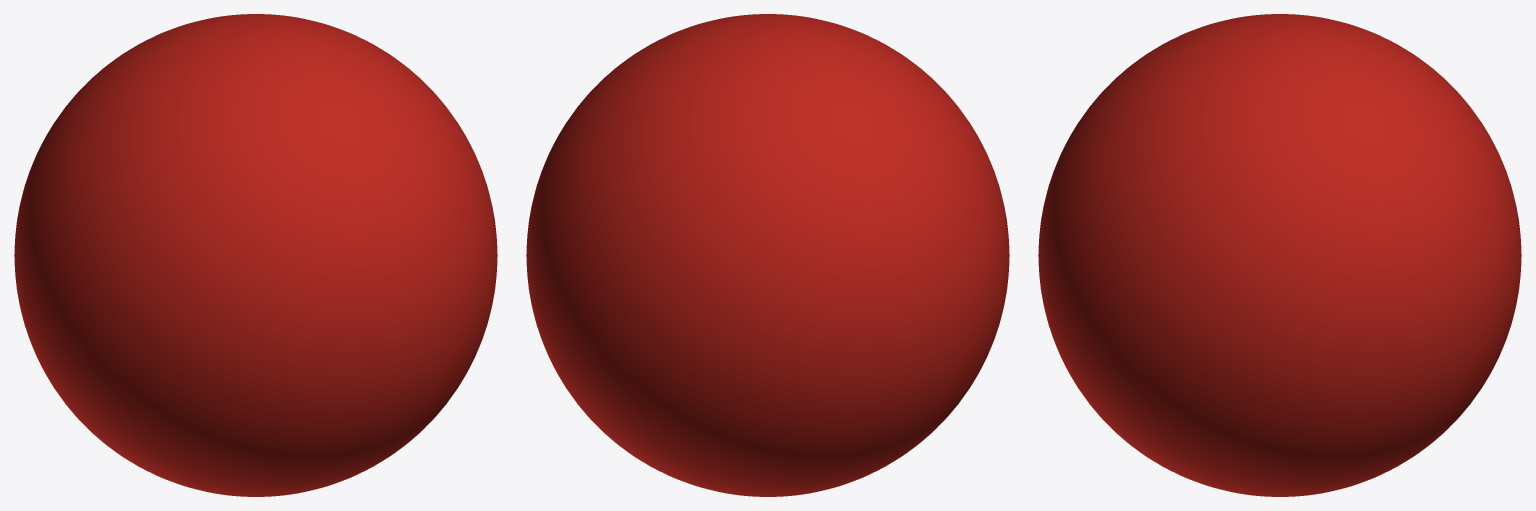
The model's file is red4.glb.
3 renders of one model, left to right at view 1: azimuth 30°, elevation 25°; view 2: azimuth 150°, elevation 25°; view 3: azimuth 270°, elevation 25°, orthographic.
Visible parts, largest first — view 1: Sphere; view 2: Sphere; view 3: Sphere.
Part boxes in pixels (x1=…): Sphere: x1=14, y1=14, x2=497, y2=496; Sphere: x1=526, y1=14, x2=1009, y2=496; Sphere: x1=1038, y1=14, x2=1521, y2=496.
Bounding box in the file's own units: 0.0524 × 0.0524 × 0.0524.
1 material, 1 textured.
